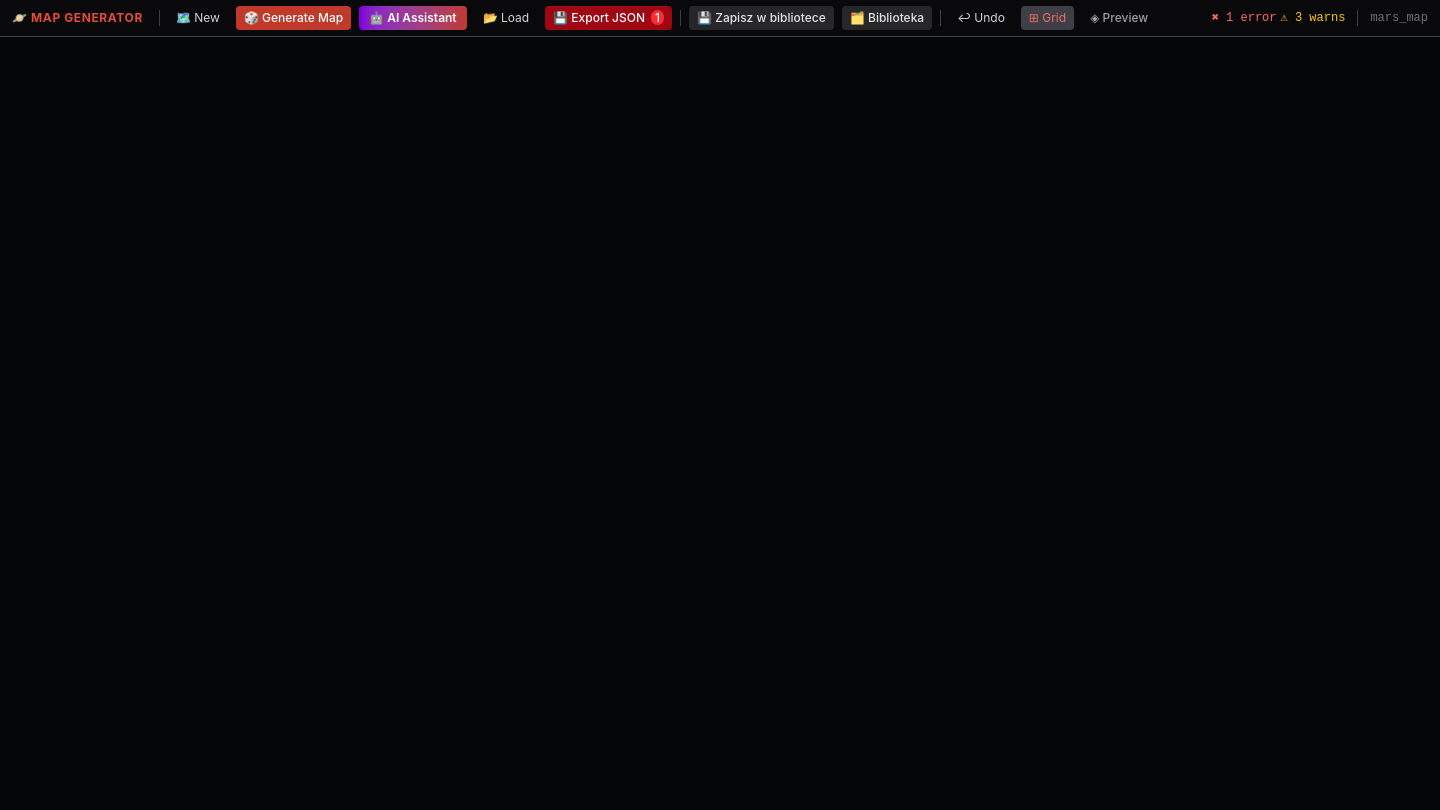
Test: GeneratorToolbar - biblioteka map (T14) › zapisuje mapę w bibliotece przeglądarki bez logowania
Click the button "💾 Zapisz w bibliotece" at {"x": 761, "y": 18}, box [689,6,834,30]
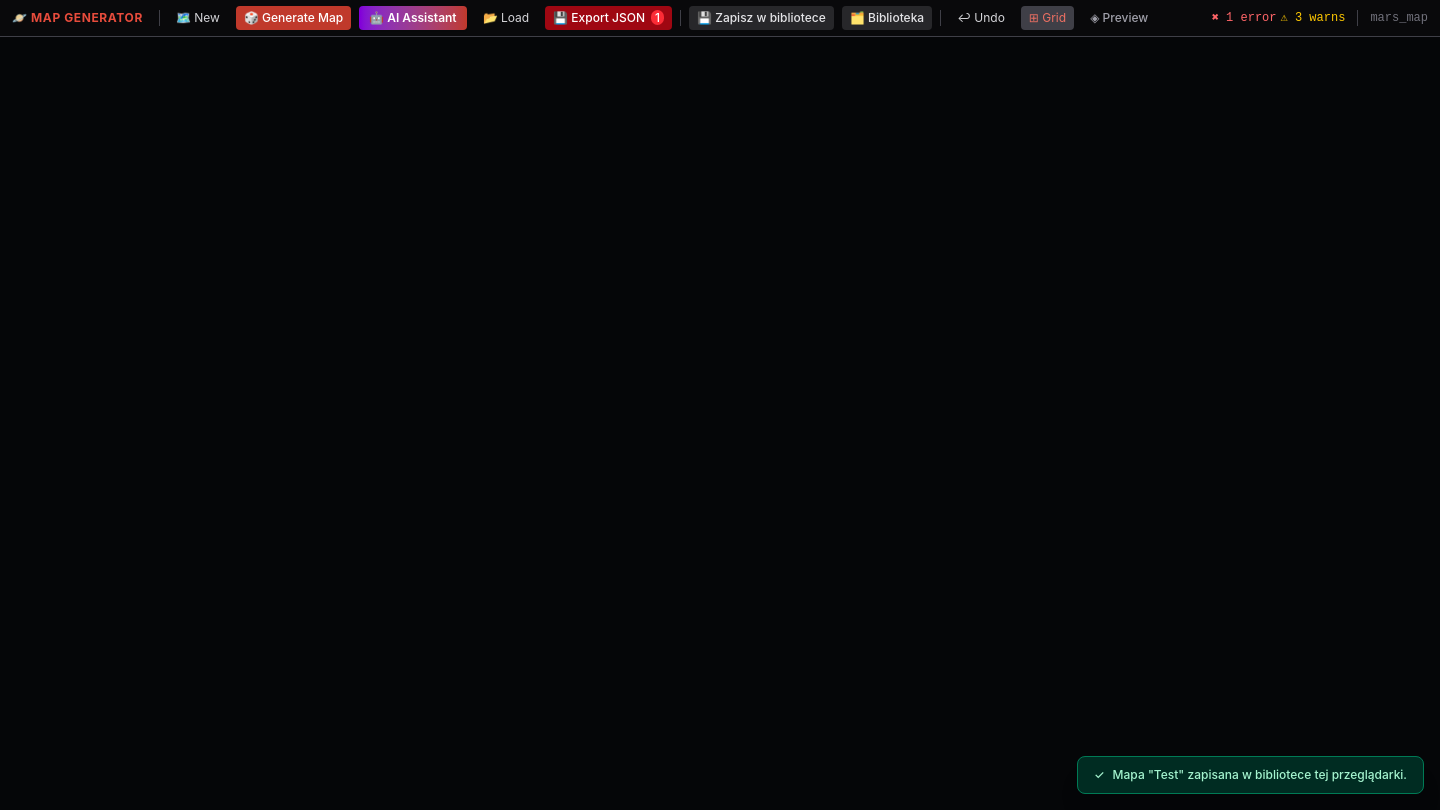
expect the text "Mapa \"Test\" zapisana w bibliotece tej przeglądarki." is shown: met, box [1113,767,1407,783]
